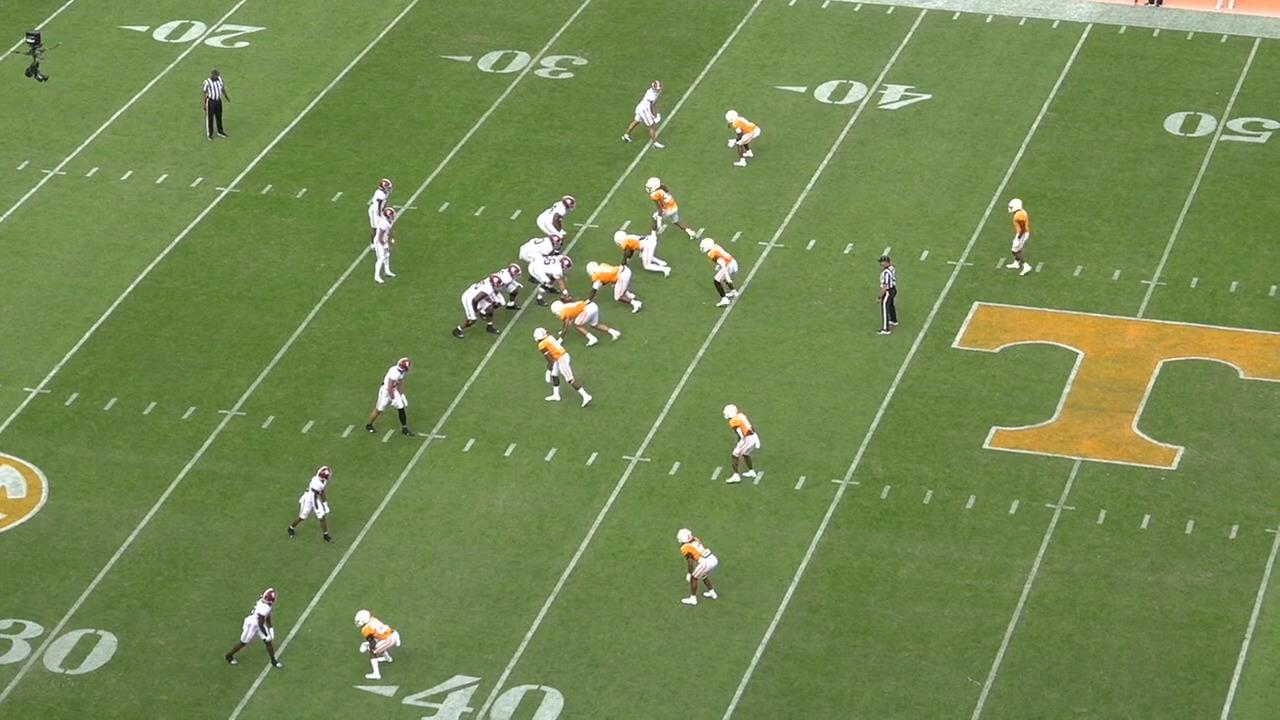defense: (532, 323, 595, 406), (345, 605, 395, 685), (645, 174, 702, 244), (679, 523, 725, 605), (552, 301, 624, 352), (724, 400, 765, 486), (587, 262, 648, 317), (611, 232, 673, 281), (698, 236, 738, 310), (719, 107, 760, 173), (1003, 200, 1036, 281)
oline: (458, 273, 510, 340), (532, 252, 580, 304), (480, 264, 523, 320), (521, 232, 572, 271), (533, 190, 576, 236)
qb: (364, 207, 393, 286)
ref: (870, 255, 900, 345), (201, 67, 233, 144)
skill: (225, 586, 291, 676), (355, 354, 413, 439), (279, 463, 332, 547), (619, 77, 667, 155), (367, 174, 395, 254)
